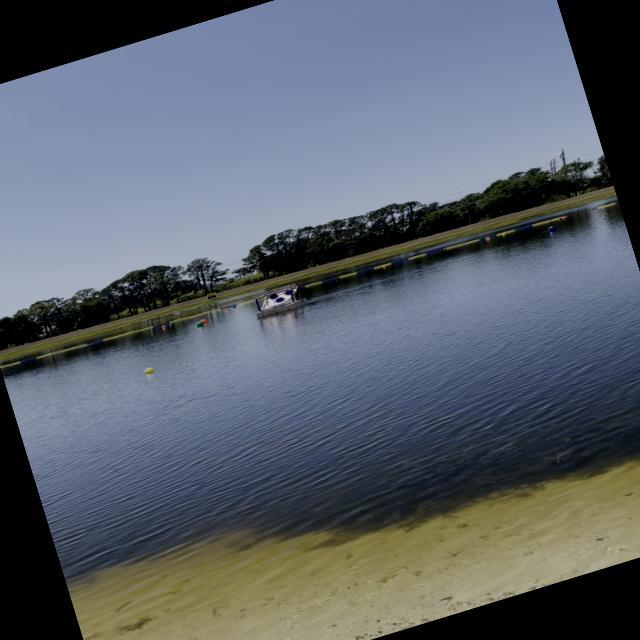buoy: (140, 364, 160, 375), (545, 223, 558, 232), (193, 320, 205, 328), (199, 317, 209, 325), (222, 306, 229, 311), (160, 324, 165, 329)
